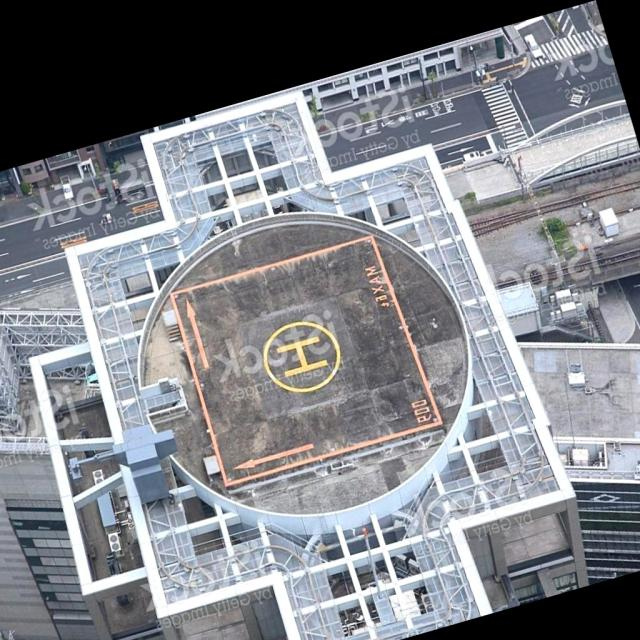helipad: (259, 316, 343, 396)
